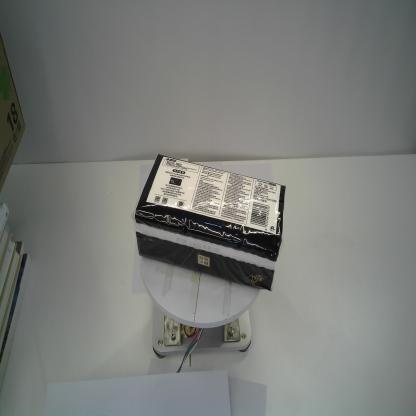Tissue: (133, 151, 287, 295)
